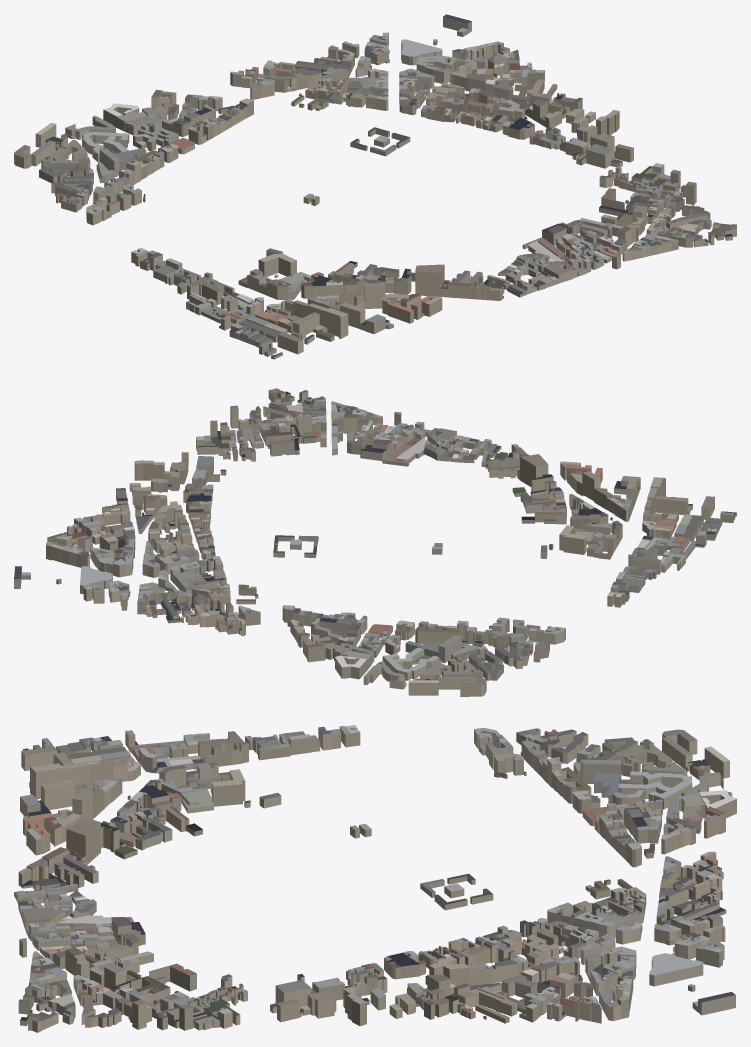
The picture shows the model from 3 angles, top to bottom: view 1: azimuth 30°, elevation 25°; view 2: azimuth 150°, elevation 25°; view 3: azimuth 270°, elevation 25°; orthographic projection. The views are drawn at different scales.
Parts seen in each view (by area): view 1: tuile; view 2: tuile; view 3: tuile.
Part boxes in pixels (bbox=[...]): tuile: bbox=[14, 14, 736, 359]; tuile: bbox=[14, 388, 736, 696]; tuile: bbox=[14, 725, 736, 1032].
Size of the model in its own units: 1041 by 71.16 by 1039.
